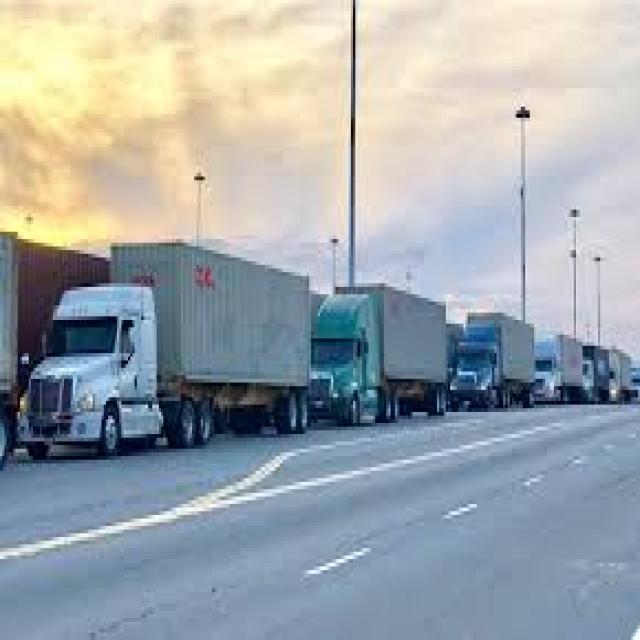TRUCK: (18, 243, 314, 455), (316, 289, 452, 431), (452, 310, 534, 414), (533, 333, 584, 409)
